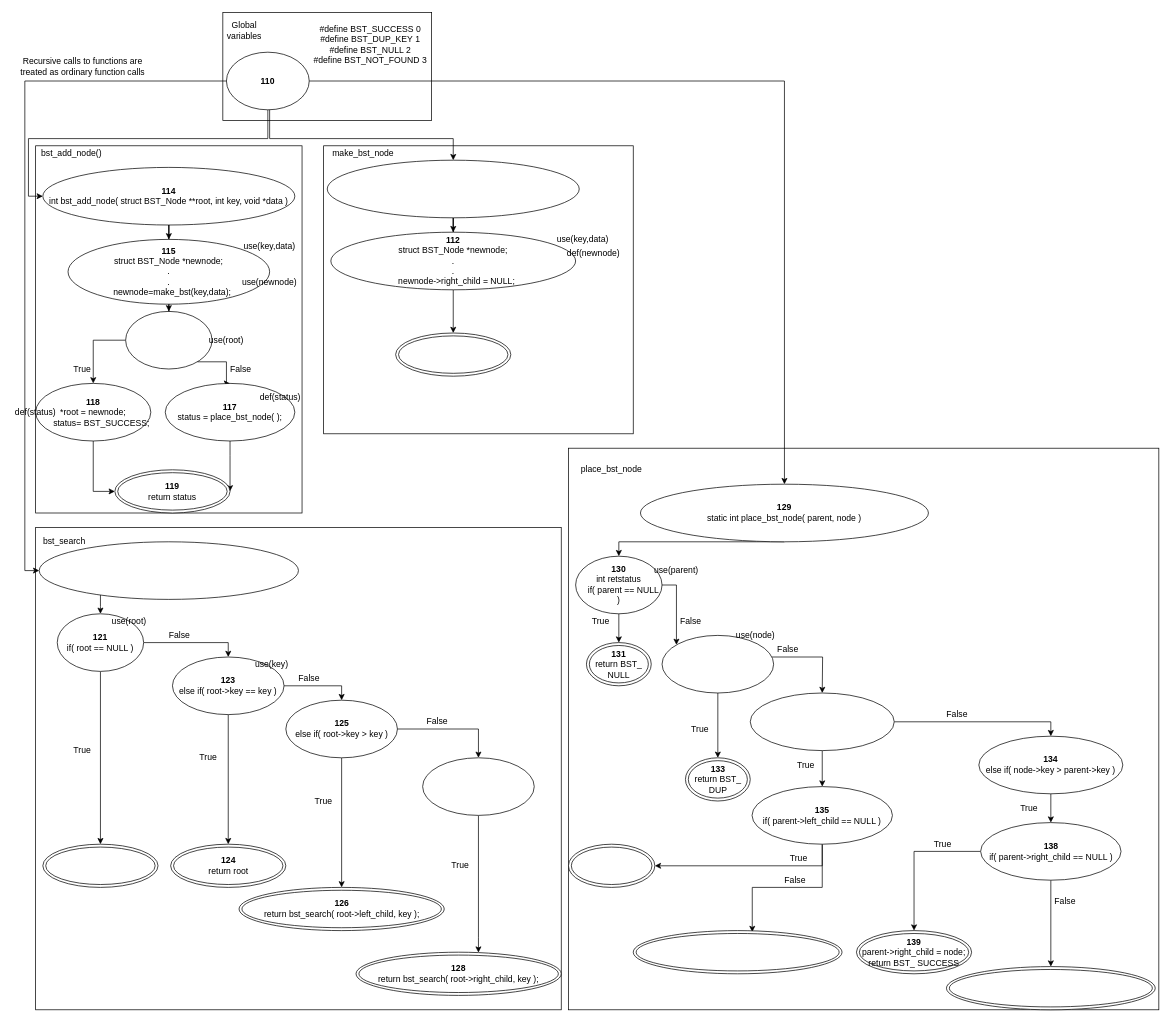
Image size: 1171x1022. Some labels were removed from this diagram. Here are the shapes that lost their labels. From the top down, the box of each, then its label:
(327, 159, 579, 218): 111 static struct BST_Node *make_bst_node( int key, void *data )
(125, 311, 212, 369): 116 if( *root == NULL )
(395, 332, 511, 376): 113 return newnode
(39, 541, 298, 599): 120 struct BST_Node *bst_search( struct BST_Node *root, int key )
(661, 635, 774, 693): 132 if(node->key == parent->key)
(750, 692, 894, 751): 134 else if( node->key < parent->key )
(422, 757, 534, 815): 127 else if( root->key < key )
(42, 843, 158, 887): 122 return NULL
(568, 843, 655, 887): 136 return BST_ SUCCESS
(633, 930, 842, 974): 137 return place_bst_node( parent->left_child, );
(946, 966, 1155, 1010): 140 return place_bst_node( parent->right_child, );
